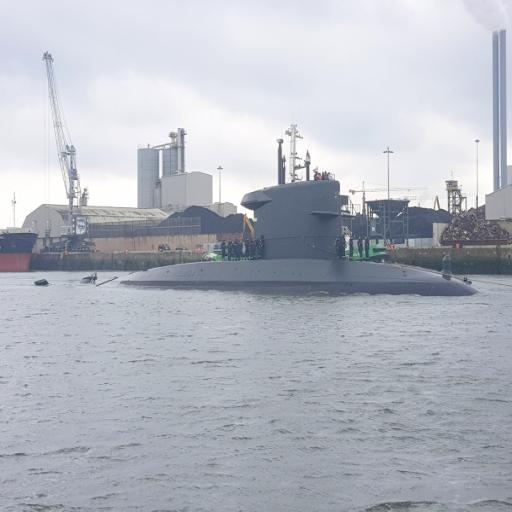submarine: (34, 138, 483, 300)
